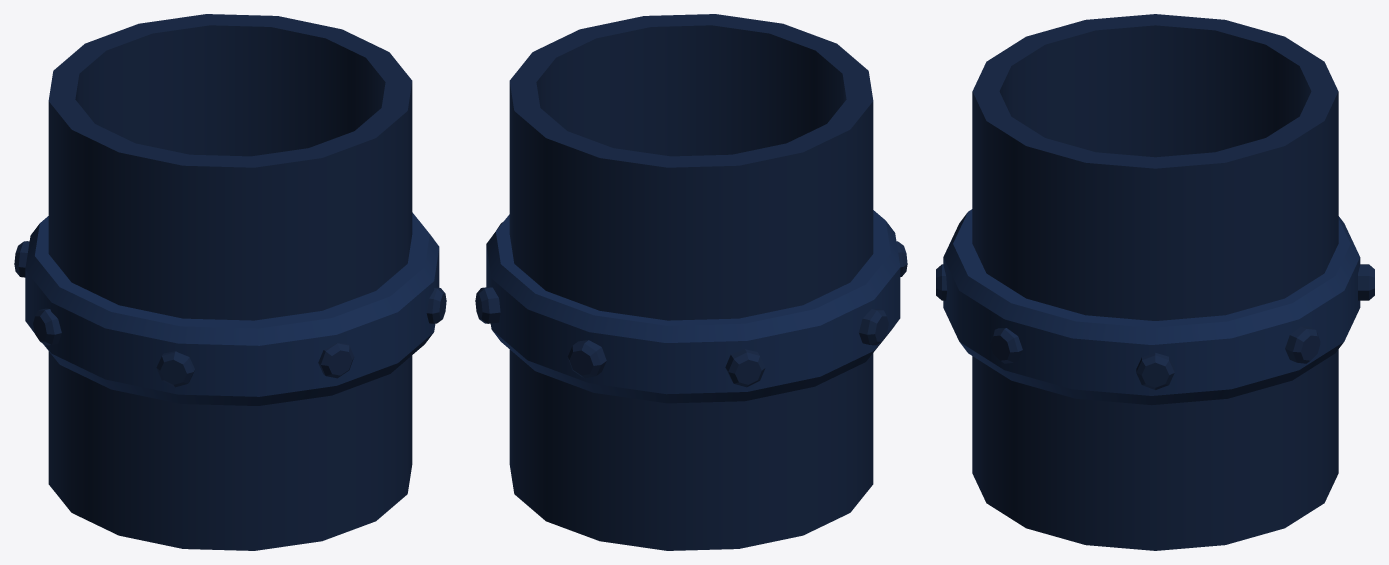
The model's file is Pipe_Straight.obj.
The picture shows the model from 3 angles, left to right: view 1: azimuth 30°, elevation 25°; view 2: azimuth 150°, elevation 25°; view 3: azimuth 270°, elevation 25°; orthographic projection.
Visible parts, largest first — view 1: Pipe_Straight_Cylinder.023; view 2: Pipe_Straight_Cylinder.023; view 3: Pipe_Straight_Cylinder.023.
Boxes of the visible parts, bbox=[...] form: Pipe_Straight_Cylinder.023: bbox=[14, 14, 446, 550]; Pipe_Straight_Cylinder.023: bbox=[475, 14, 907, 550]; Pipe_Straight_Cylinder.023: bbox=[936, 14, 1374, 550].
Bounding box in the file's own units: 2.08 × 2 × 2.08.
